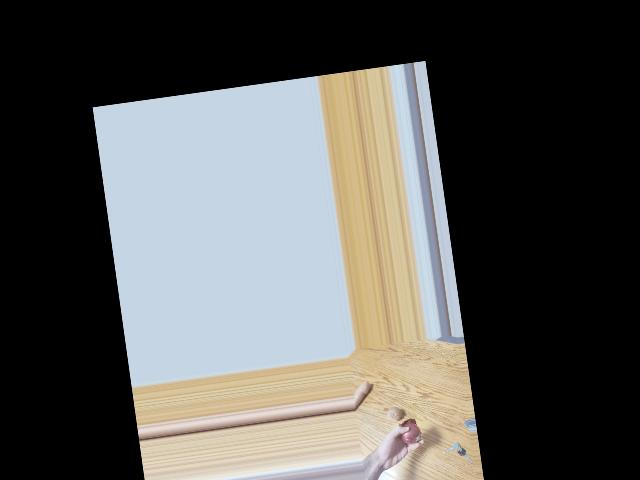onion: (400, 421, 421, 445)
